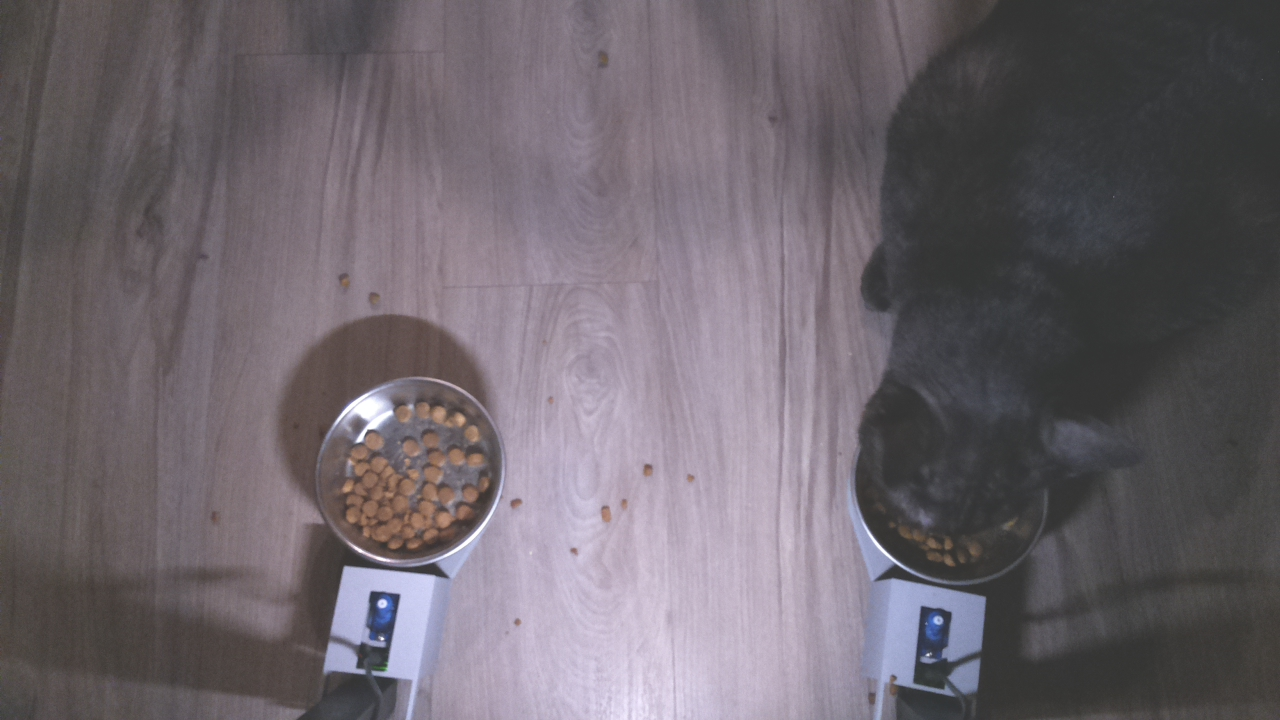open_bowl: (311, 372, 508, 573)
saki_eating: (843, 319, 1134, 596)
